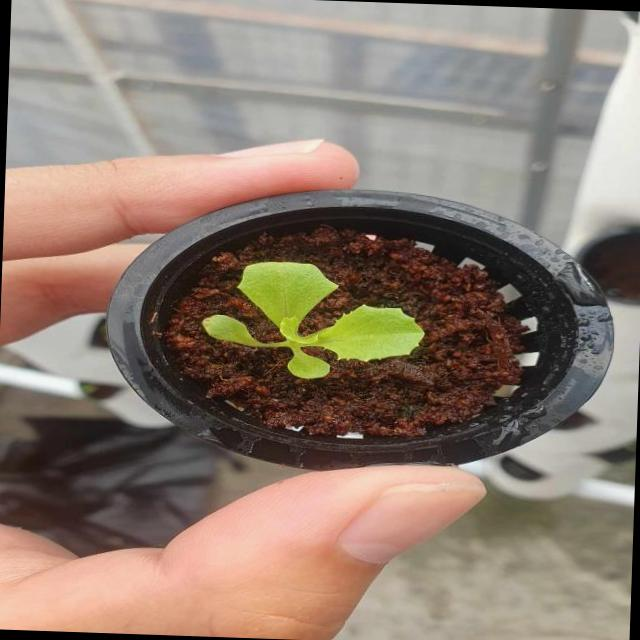Lettuce-Not-Ready-to-Harvest: (201, 261, 425, 380)
